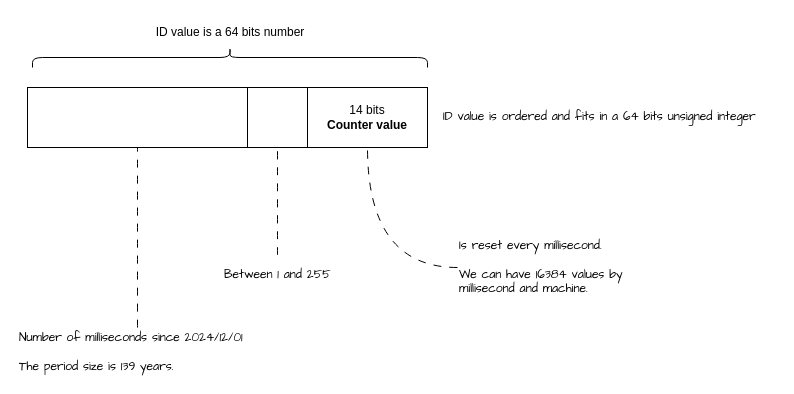
This 794x394 diagram has some shape labels left out. Each missing label, with the centre of its shape:
"42 bits Timestamp" goes at pixel 137 117.
"8 bits Machine ID" goes at pixel 277 117.
